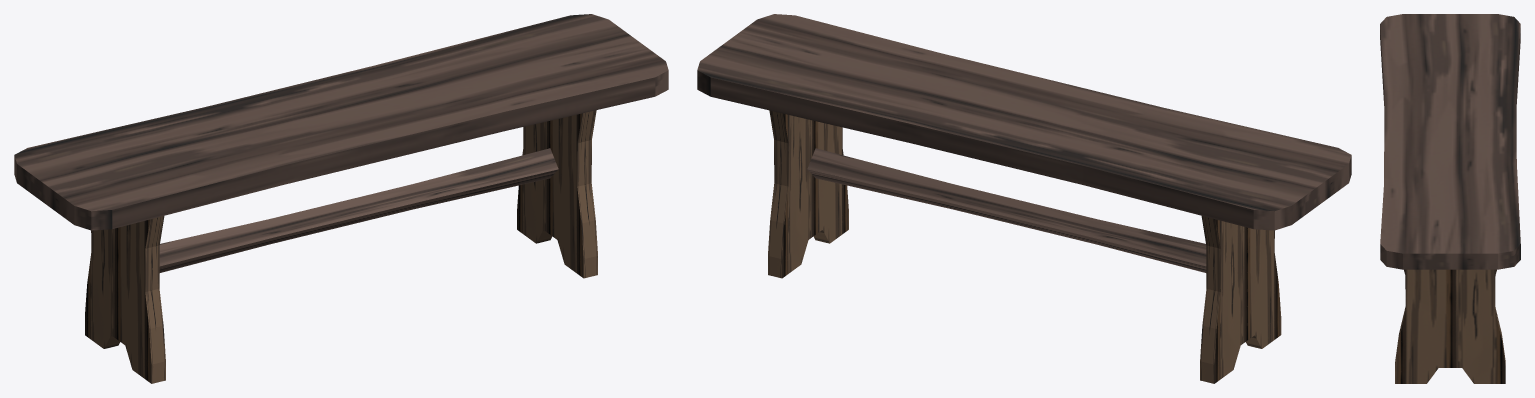
Rendered from furniture_bench_01.fbx.
3 views of the same model, side by side, from view 1: azimuth 30°, elevation 25°; view 2: azimuth 150°, elevation 25°; view 3: azimuth 270°, elevation 25° (orthographic). The views are drawn at different scales.
Parts seen in each view (by area): view 1: furniture_bench_01; view 2: furniture_bench_01; view 3: furniture_bench_01.
Boxes of the visible parts, <box> form: furniture_bench_01: <box>14,14,668,383</box>; furniture_bench_01: <box>697,14,1351,383</box>; furniture_bench_01: <box>1380,14,1520,383</box>.
Size of the model in its own units: 1.92 by 0.5967 by 0.4763.
Materials: 1 (1 with a texture image).
